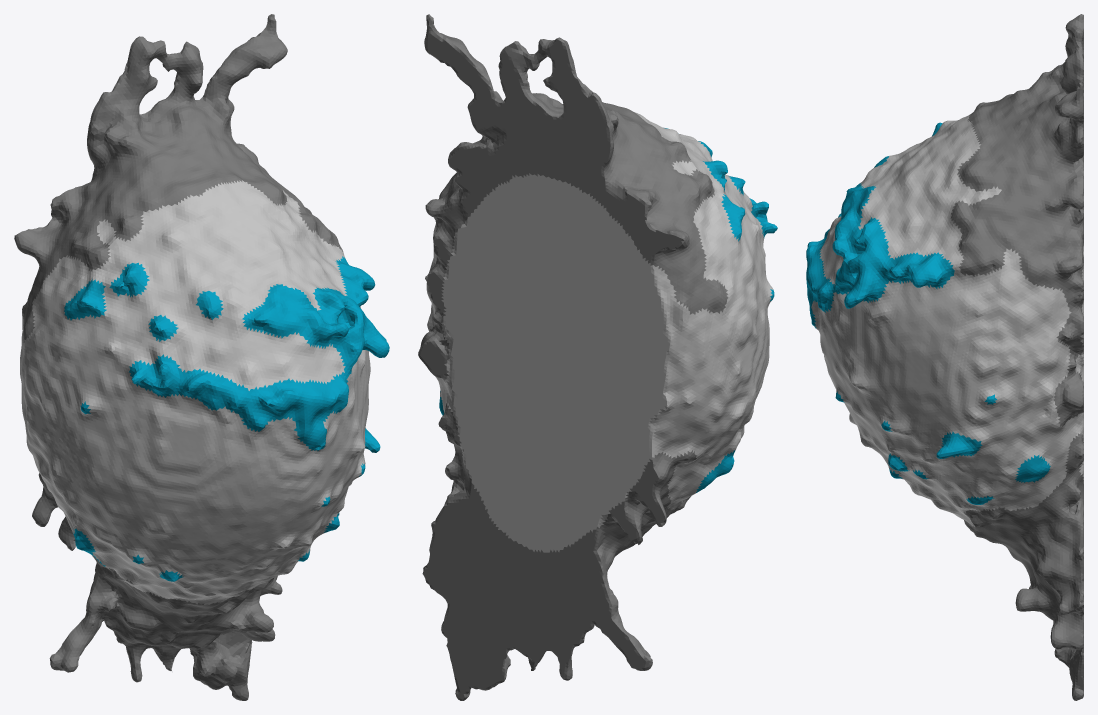
3 renders of one model, left to right at view 1: azimuth 30°, elevation 25°; view 2: azimuth 150°, elevation 25°; view 3: azimuth 270°, elevation 25°, orthographic. The views are drawn at different scales.
Bounding box in the file's own units: 84.79 × 176 × 69.27.
